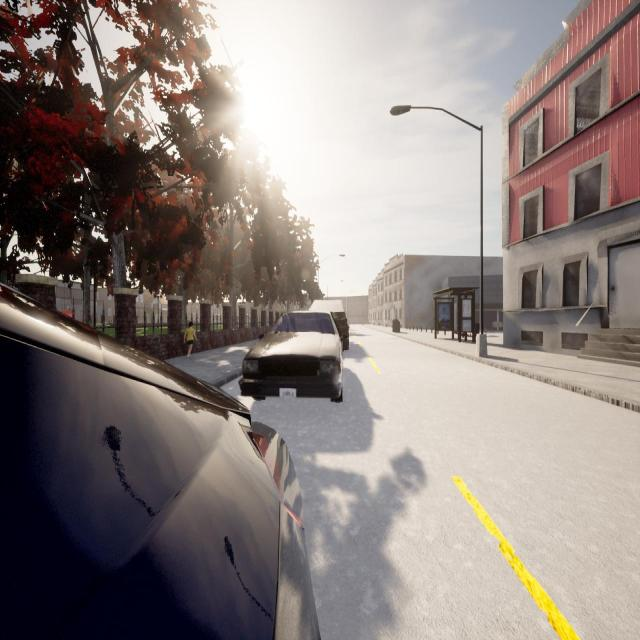Pedestrian: (184, 320, 196, 360)
Vehicle: (0, 278, 319, 640), (237, 311, 344, 404), (308, 300, 349, 350)
